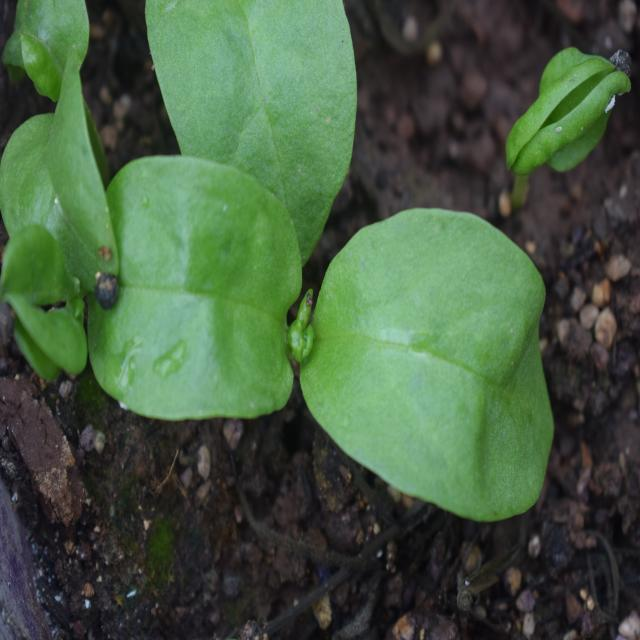Ceylon spinach: (85, 120, 566, 550)
